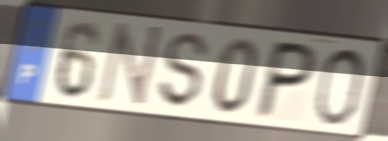0: (211, 35, 261, 118)
6: (55, 19, 103, 102)
N: (94, 20, 167, 112)
O: (311, 46, 368, 128)
P: (251, 37, 322, 121)
S: (157, 30, 211, 112)
